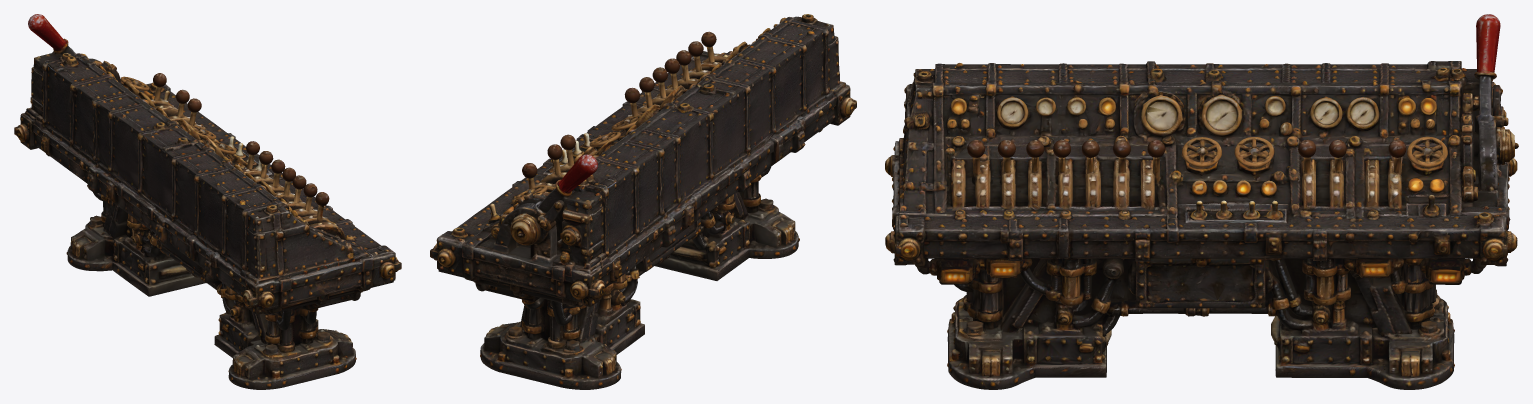
The model's file is raw_console.glb.
3 renders of one model, left to right at view 1: azimuth 30°, elevation 25°; view 2: azimuth 150°, elevation 25°; view 3: azimuth 270°, elevation 25°, orthographic. The views are drawn at different scales.
Visible parts, largest first — view 1: console; view 2: console; view 3: console.
Boxes of the visible parts, <box> form: console: <box>14,14,401,389</box>; console: <box>430,14,856,389</box>; console: <box>885,14,1518,389</box>.
Size of the model in its own units: 0.361 by 0.5179 by 1.
Materials: 1 (1 with a texture image).
